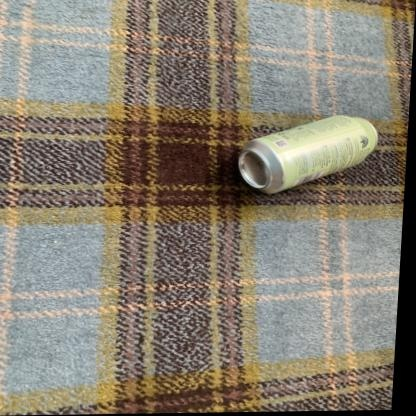trash: (238, 115, 377, 193)
